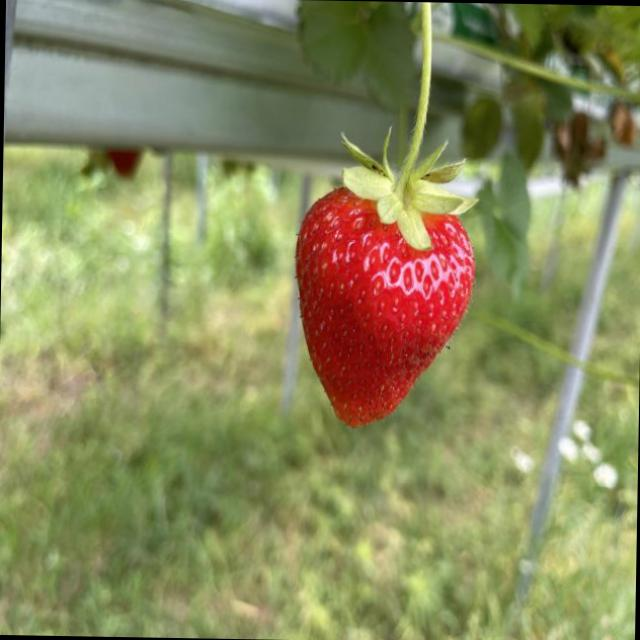stem: (343, 2, 476, 249)
strawberryR: (296, 188, 474, 426)
